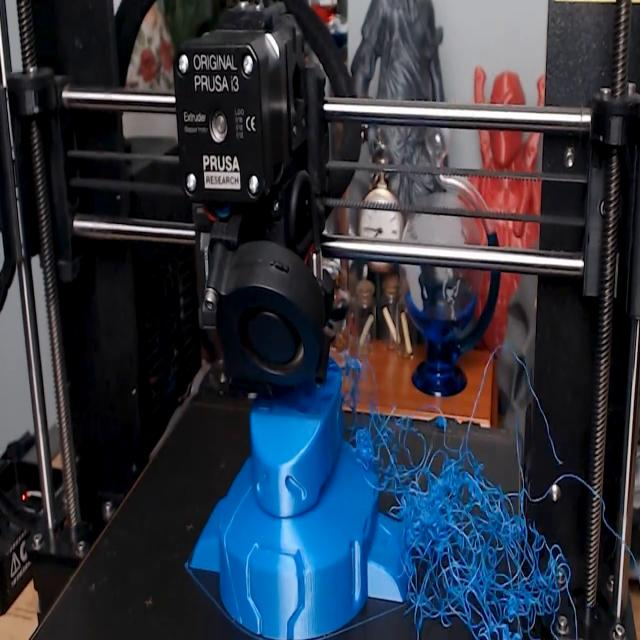spaghetti: (330, 347, 578, 640)
